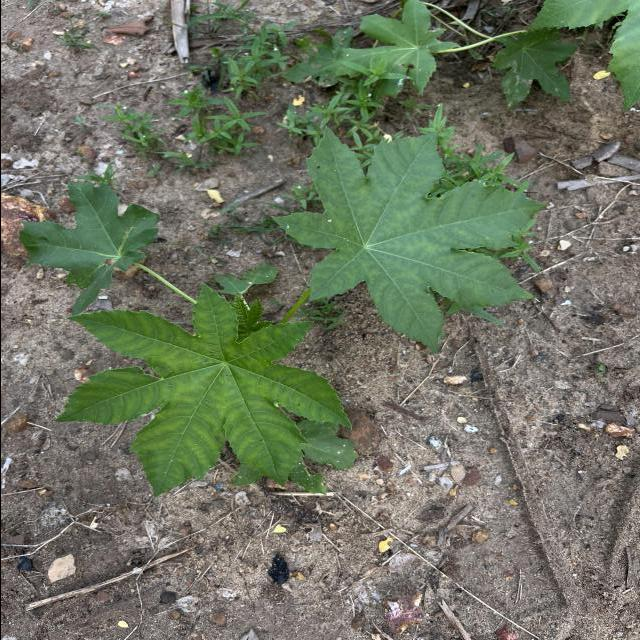Ricinus communis linn: (49, 278, 355, 501), (266, 121, 556, 356)
